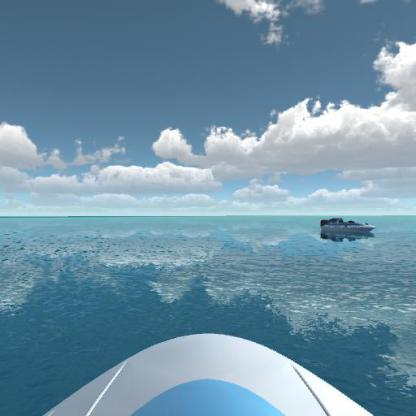usv1: (315, 213, 377, 246)
